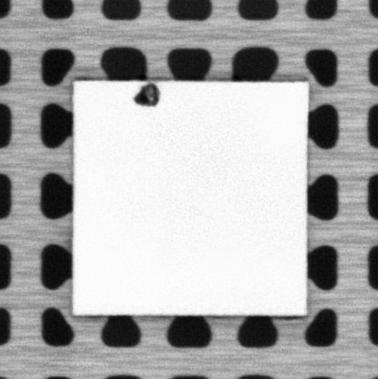DIE_INK: (132, 82, 164, 108)
